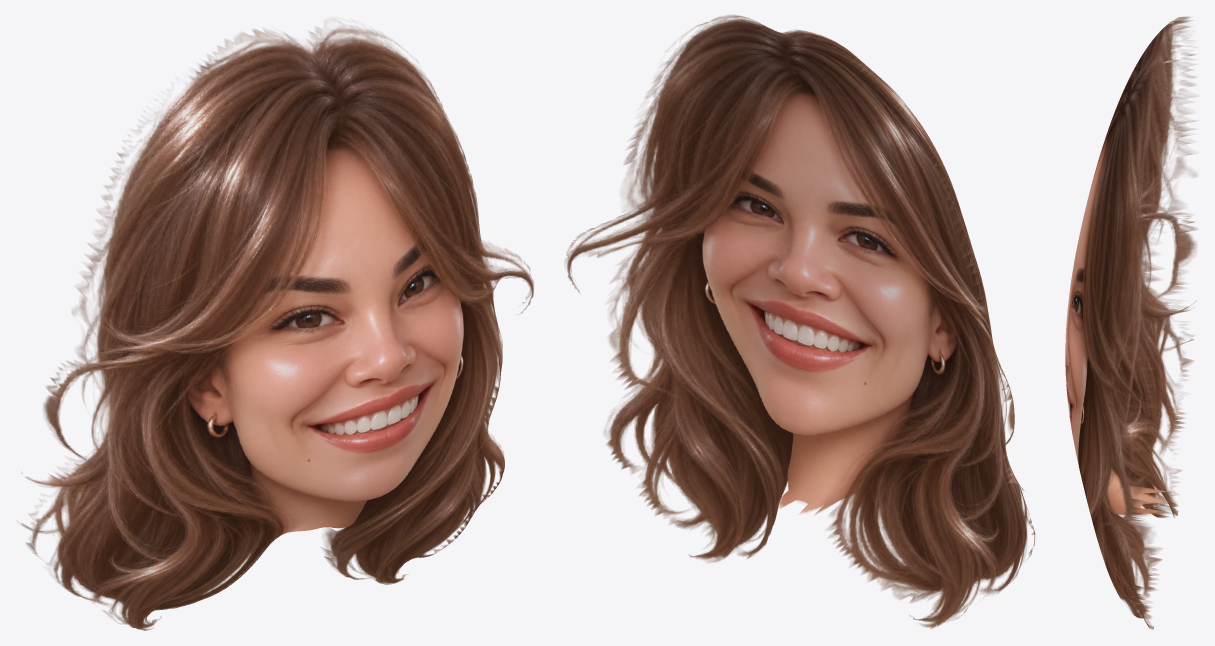
Rendered from head4.glb.
3 renders of one model, left to right at view 1: azimuth 30°, elevation 25°; view 2: azimuth 150°, elevation 25°; view 3: azimuth 270°, elevation 25°, orthographic. The views are drawn at different scales.
Visible parts, largest first — view 1: world; view 2: world; view 3: world.
Part boxes in pixels (x1,y1,x2,y2): world: (18, 21, 533, 630); world: (565, 15, 1035, 628); world: (1065, 16, 1197, 629).
Size of the model in its own units: 0.2719 by 0.3 by 0.0671.
1 material, 1 textured.
